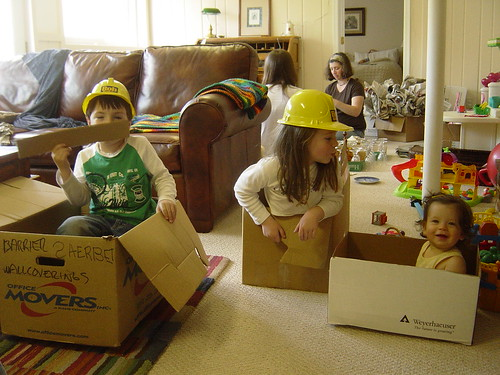person hardhat: (70, 75, 190, 252), (238, 78, 356, 246)
